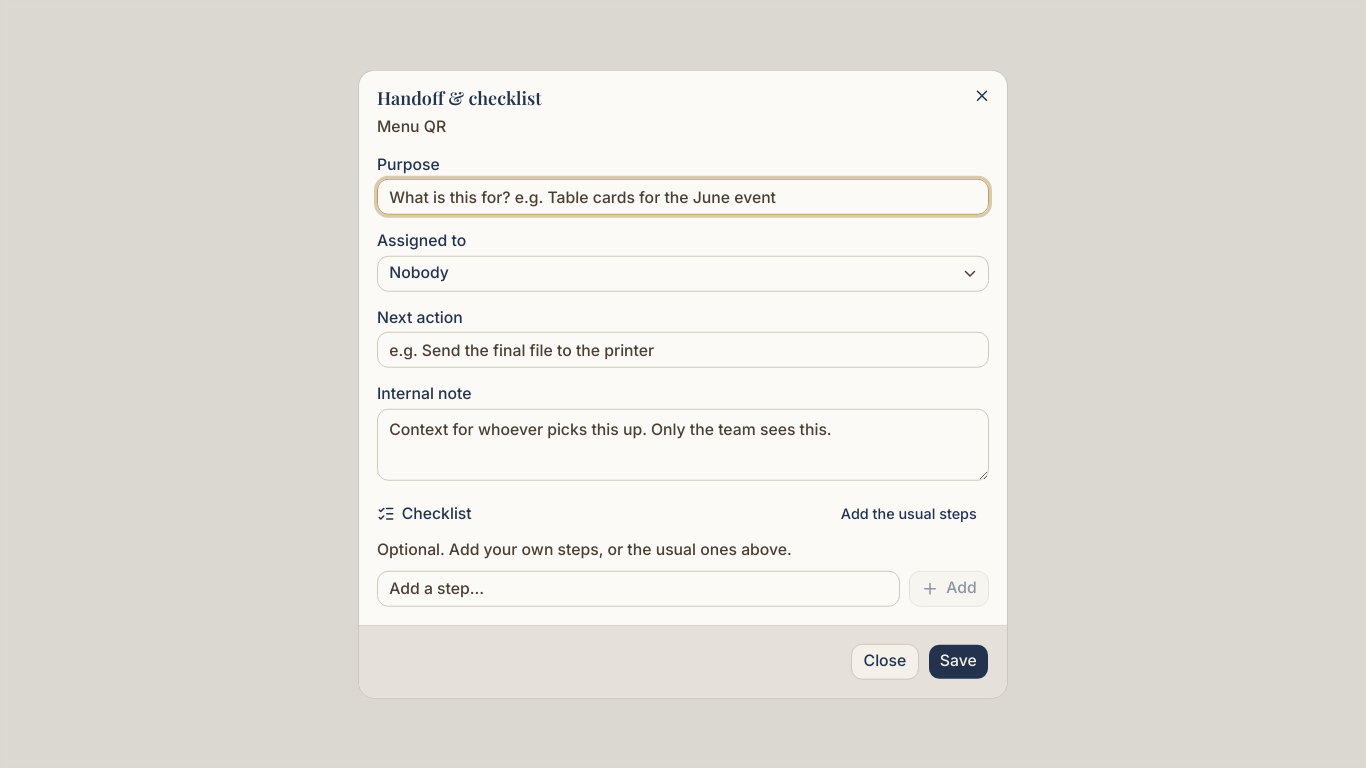
Test case: WorkflowDialog › saves the handoff after confirming, stays open, and confirms with a message
Click the dropdown named "Assigned to": (419, 272) [377,255,989,291]
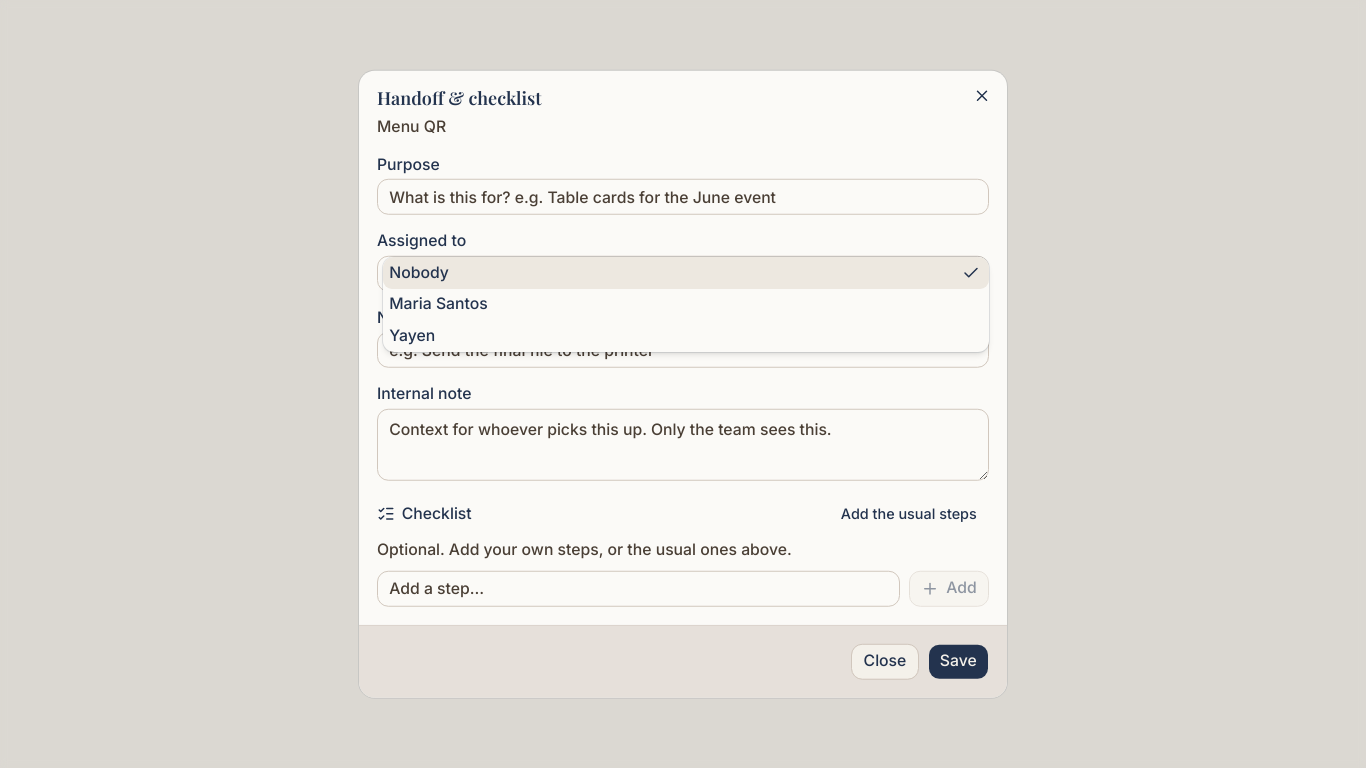
Click the option "Yayen": (412, 335) [389,326,435,345]
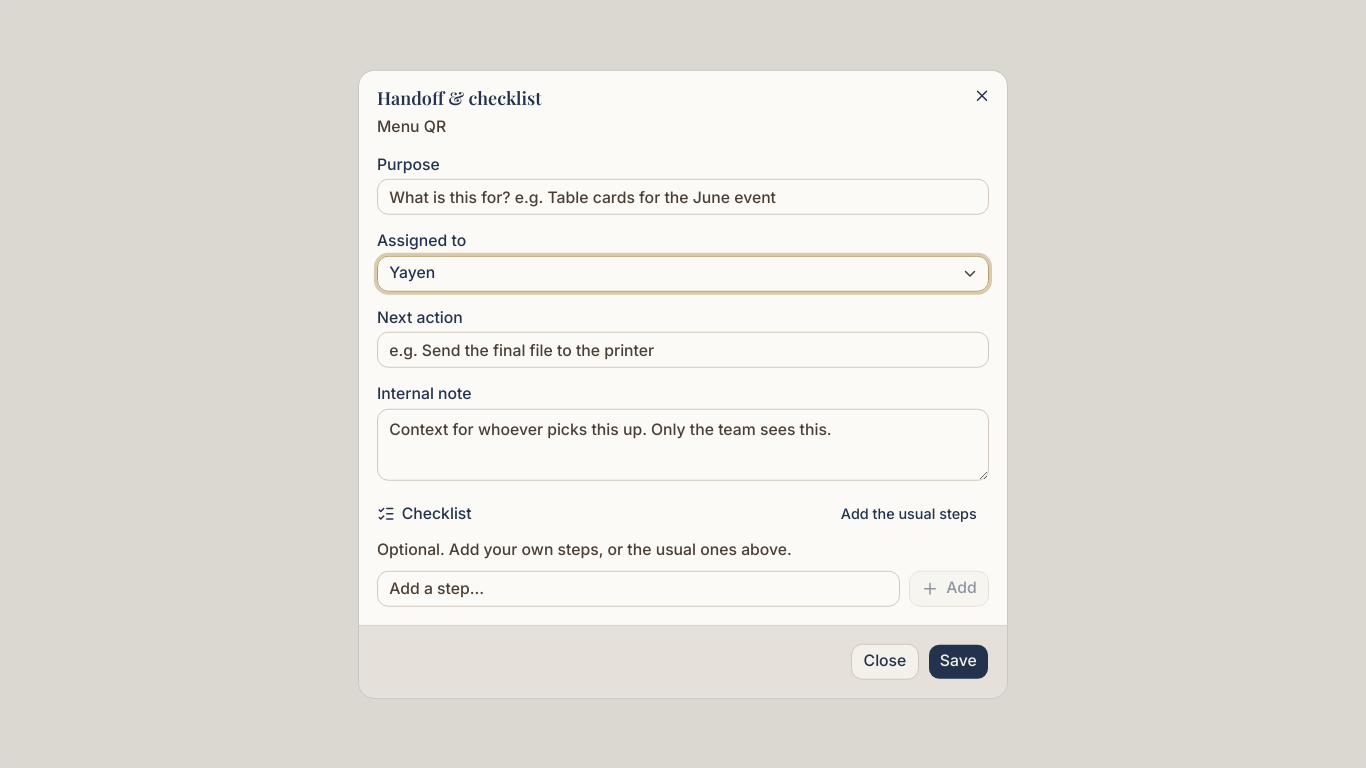
In the field labelled "Next action": (683, 350) [377,332,989,368], type "Proofread"
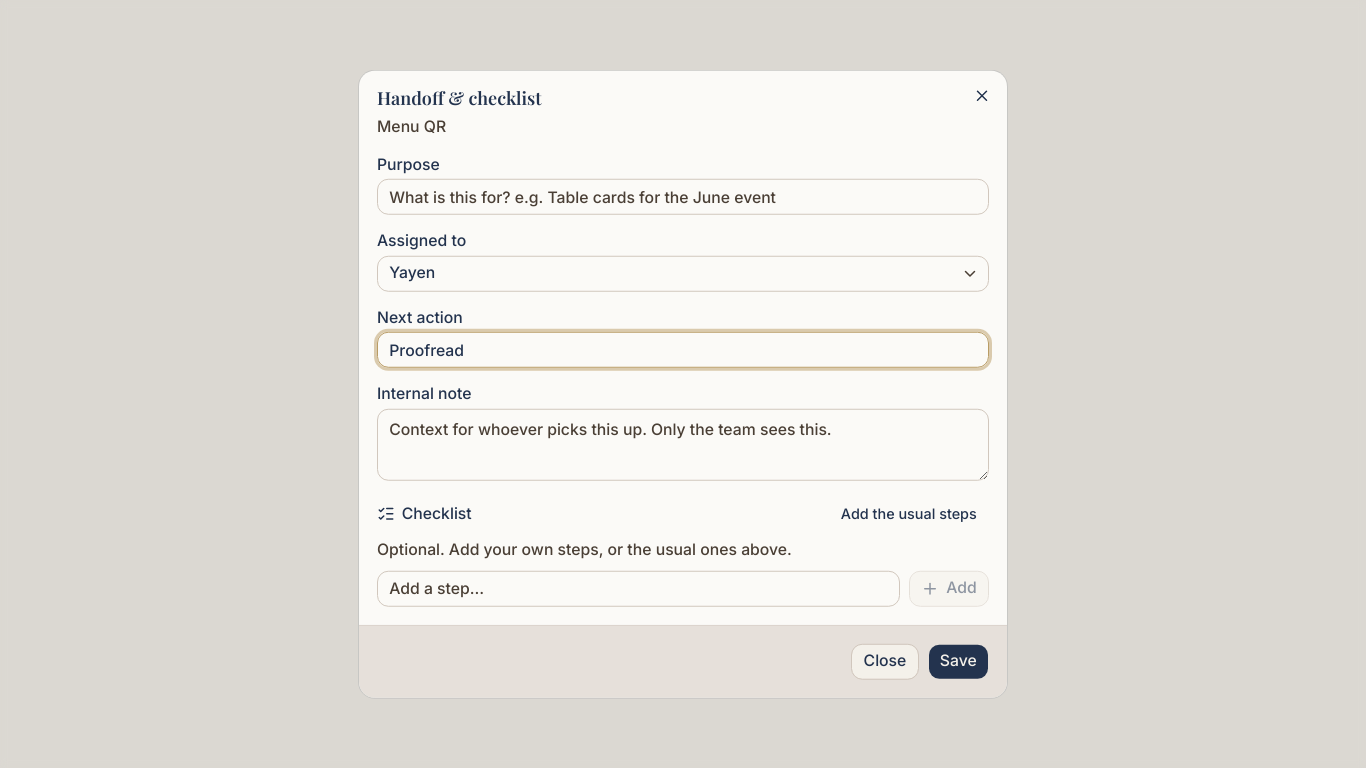
Click the button "Save": (958, 661) [928,643,989,679]
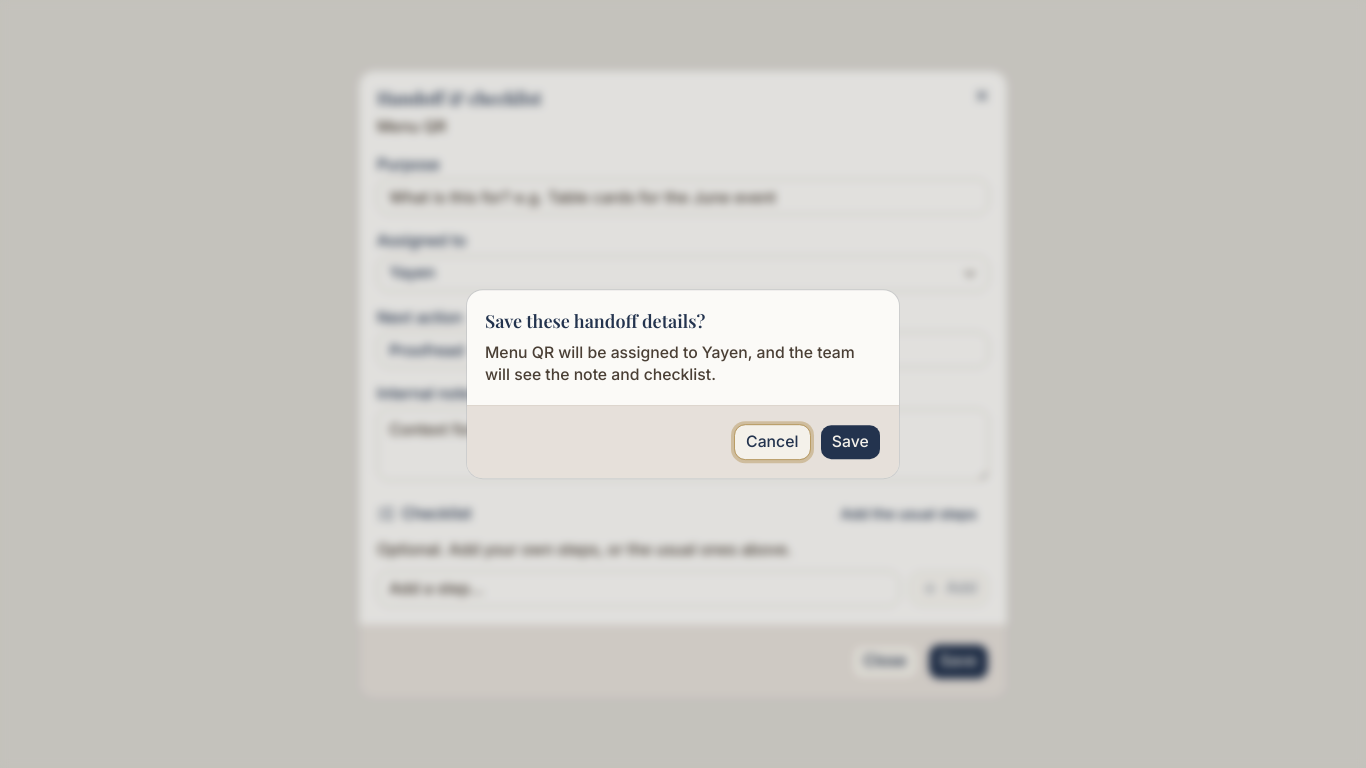
Check: the text "assigned to Yayen" is shown, box [485,343,855,384]
Click the button "Save": (850, 442) [820,424,881,460]
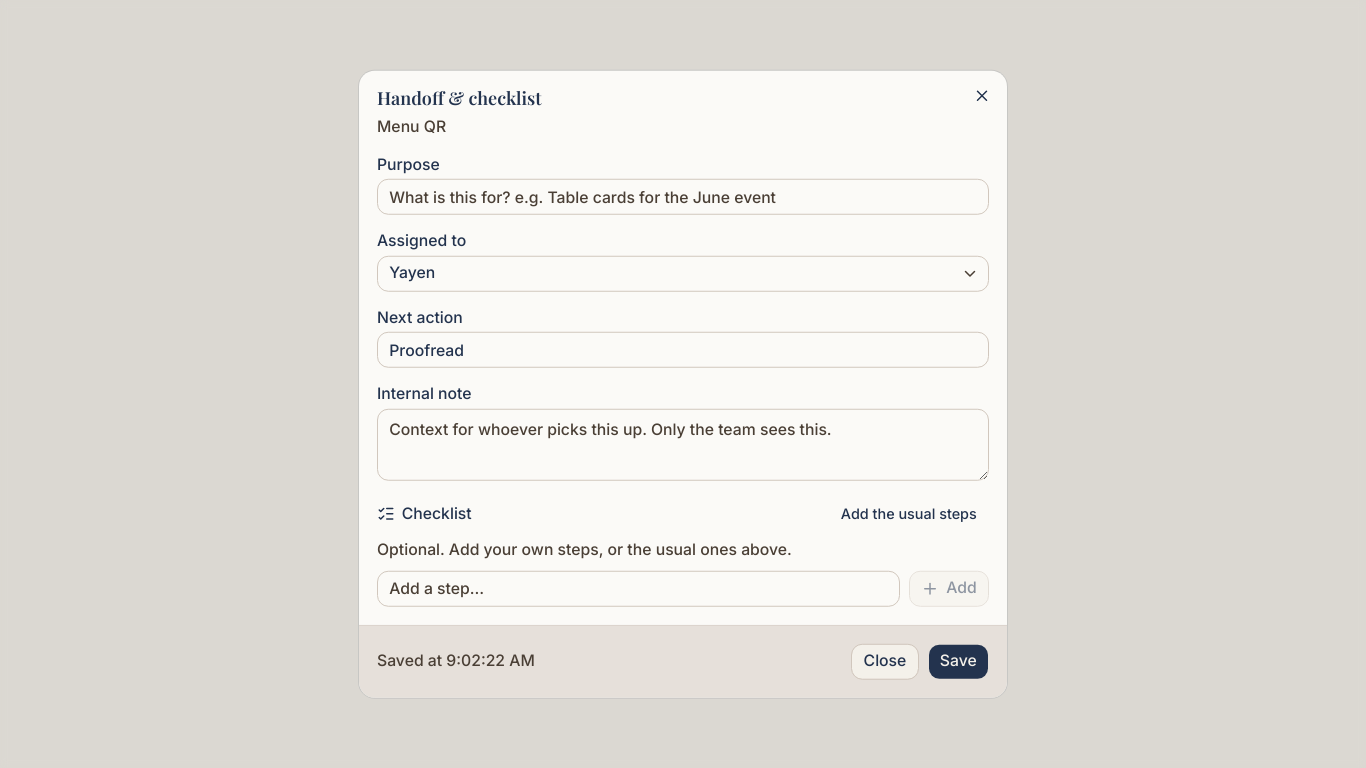
Check: the heading "Handoff & checklist" is shown, box [377,86,542,110]
Check: the message shows "Saved at", box [377,651,535,670]
